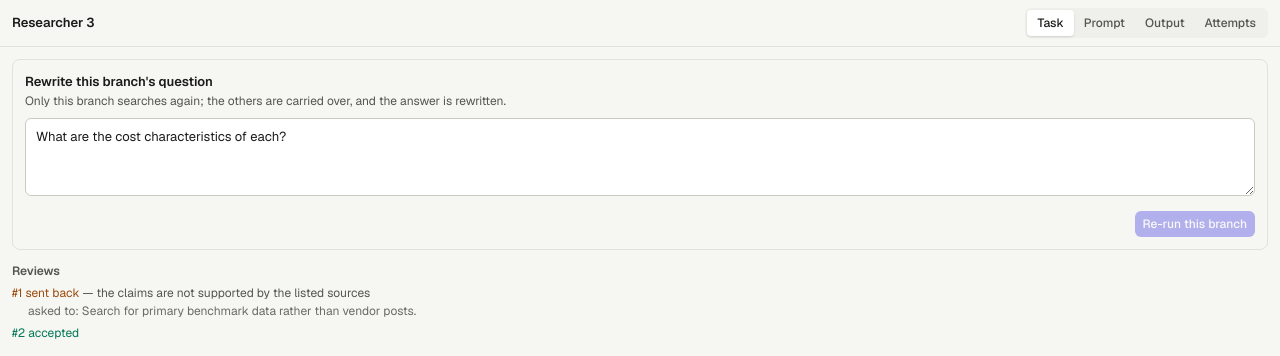
Test: rewriting a branch › says so when the conversation is busy, and stays on this run
The width and height of the screenshot is (1280, 356).
Replace the text in the text box labelled "Rewrite this branch's question" with "Which current models support context windows of 1M tokens or more?": (640, 157) [25,118,1255,196]
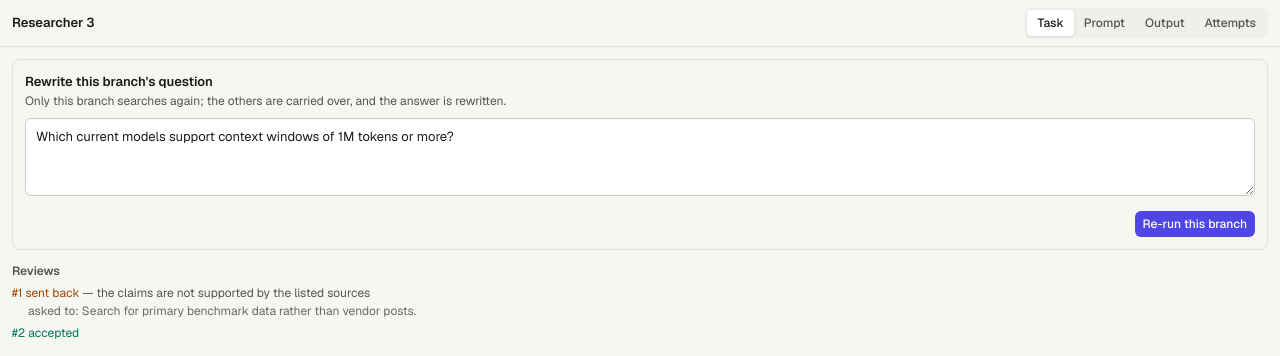
Click the button "Re-run this branch": (1195, 224) [1135,211,1255,237]
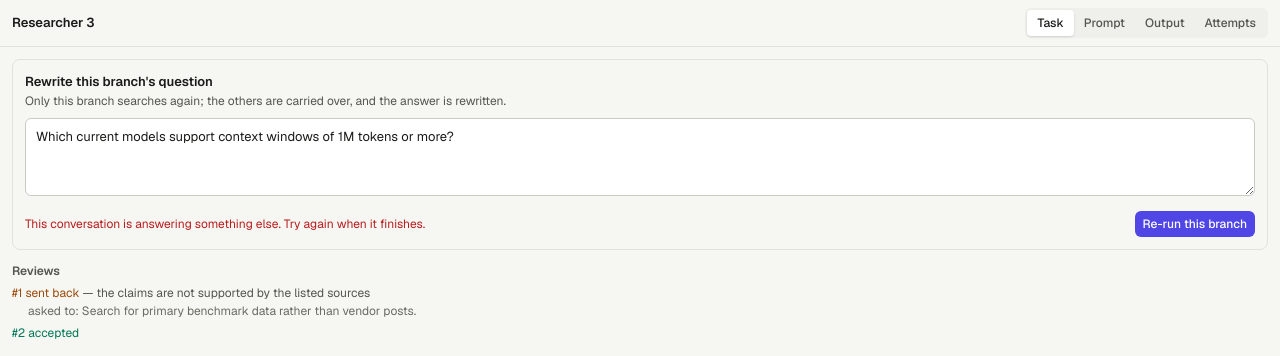
Check: the message reads "This conversation is answering something else. Try again when it finishes.", box [25,216,425,232]
